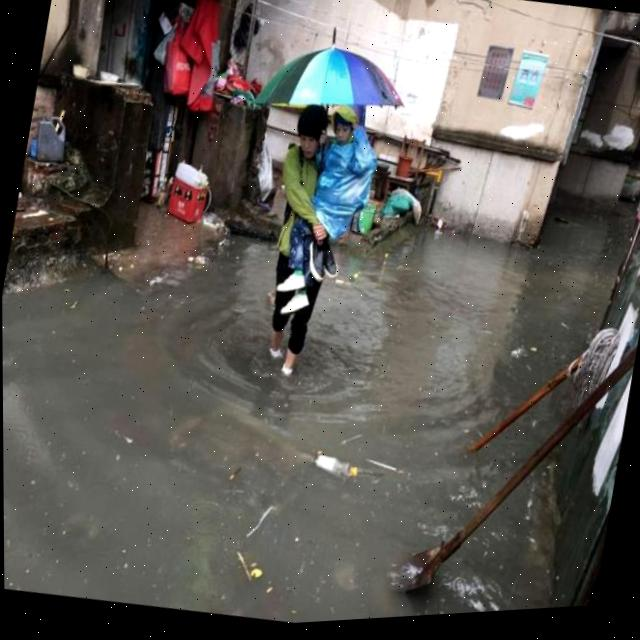civilian: (233, 94, 356, 392), (269, 86, 388, 336)
